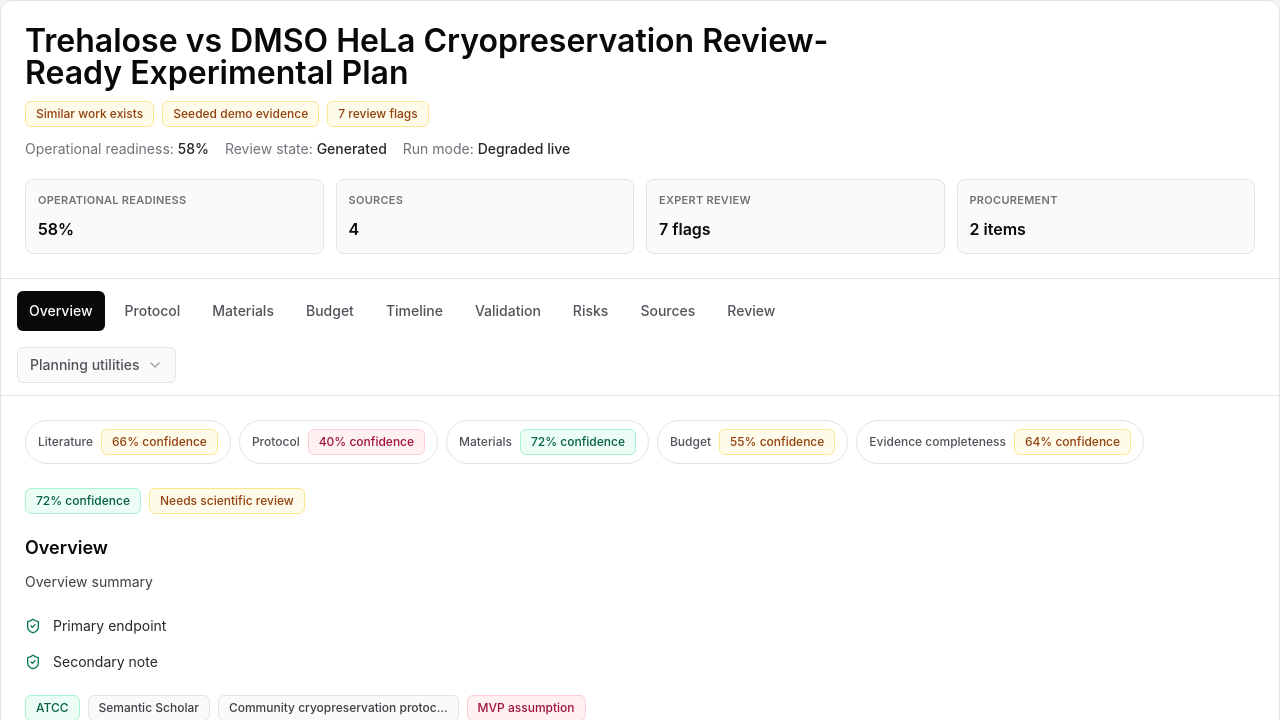
PlanTabs › shows source and procurement labels
Click the button "Materials": (243, 310) x1=200 y1=290 x2=286 y2=330
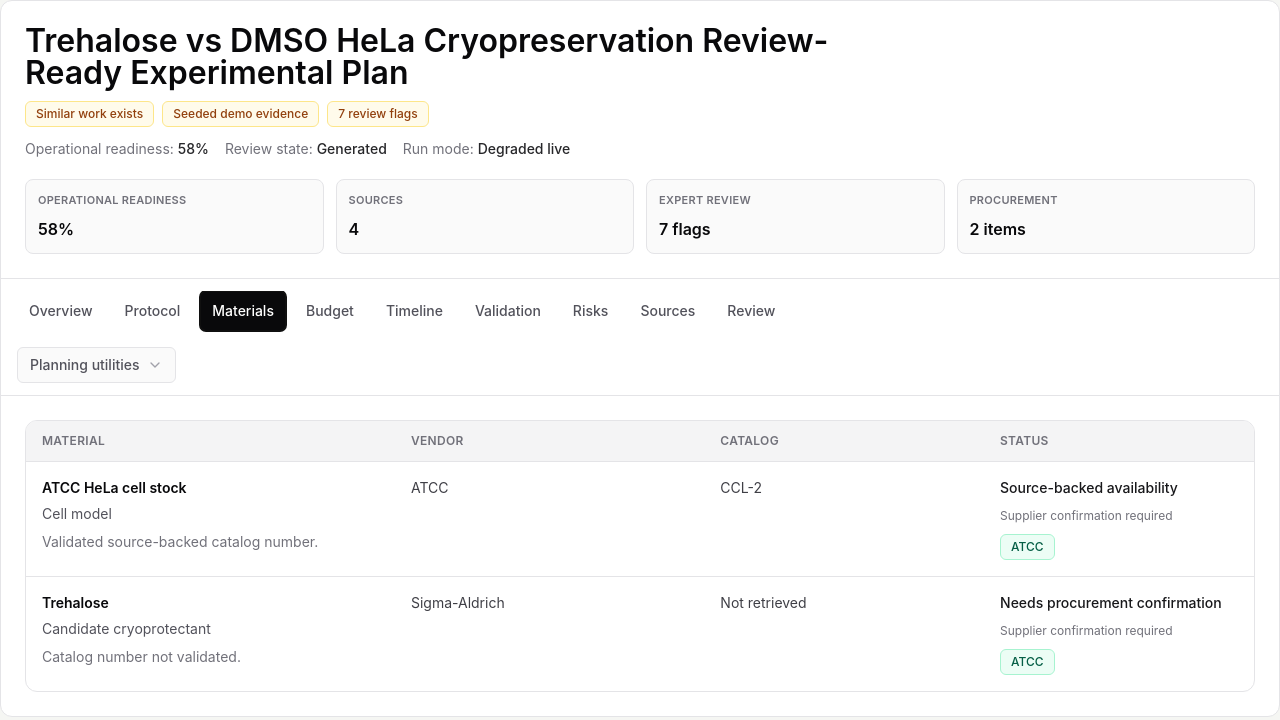
Expected: the text "Needs procurement confirmation" is shown, x1=1000 y1=592 x2=1238 y2=612
Expected: the text "Supplier confirmation required" below "Source-backed availability" is shown, x1=1000 y1=508 x2=1172 y2=522
